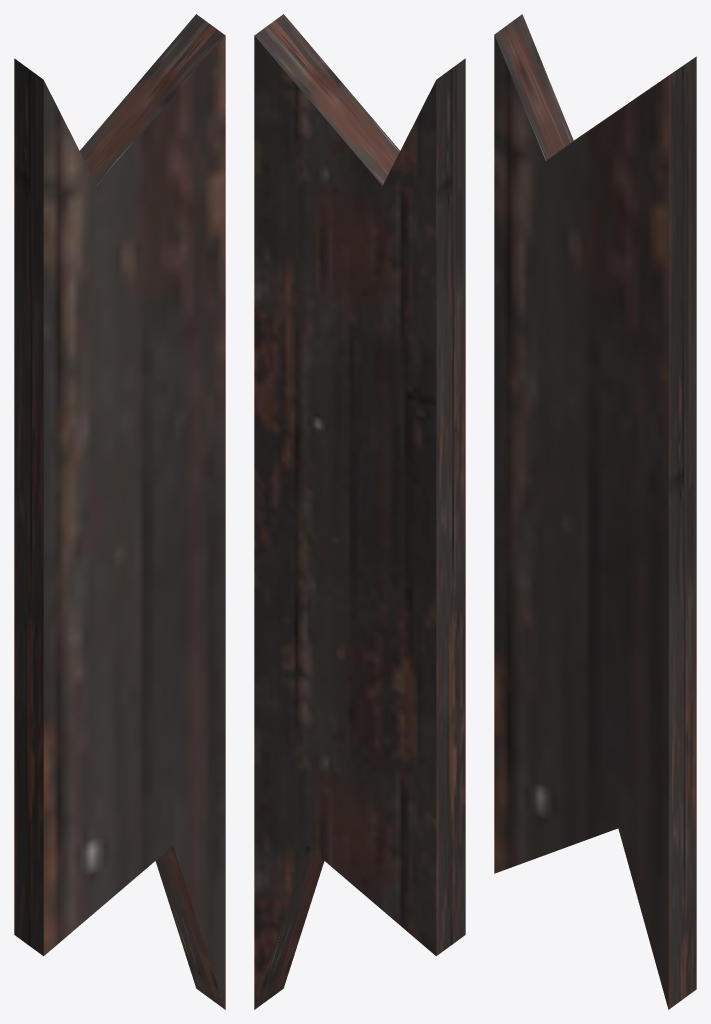
Rendered from Board_05.fbx.
3 renders of one model, left to right at view 1: azimuth 30°, elevation 25°; view 2: azimuth 150°, elevation 25°; view 3: azimuth 330°, elevation 25°, orthographic. The views are drawn at different scales.
Visible parts, largest first — view 1: Board_05; view 2: Board_05; view 3: Board_05.
Part boxes in pixels (box(x1,y1,x2,y2)): Board_05: box(14, 14, 225, 1009); Board_05: box(254, 14, 465, 1009); Board_05: box(494, 14, 696, 1009).
Bounding box in the file's own units: 70.54 × 361 × 19.65.
